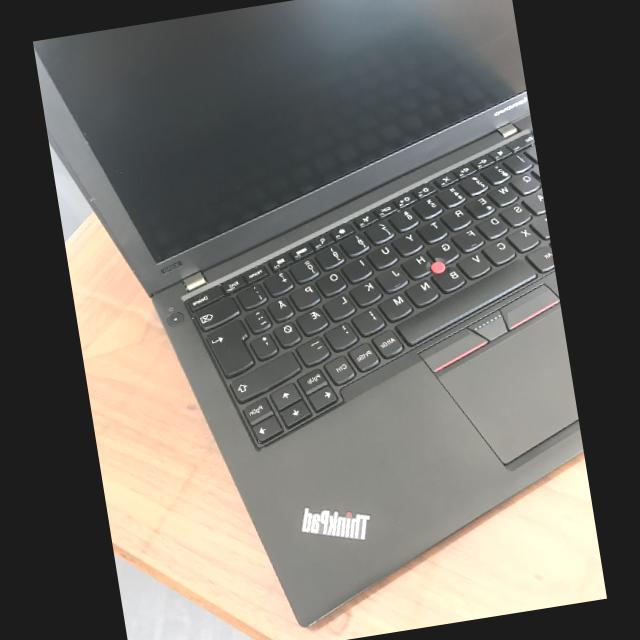laptop: (33, 0, 583, 625)
